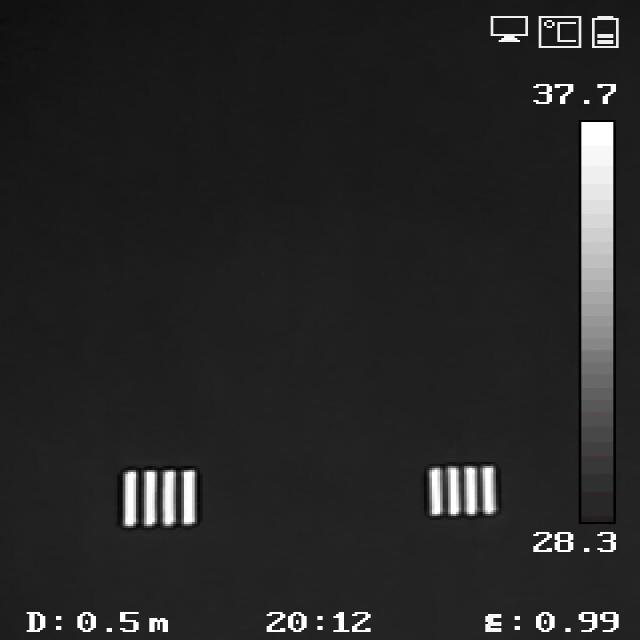Distinguishable 4-bar target: (121, 469, 200, 530), (425, 463, 500, 520)
